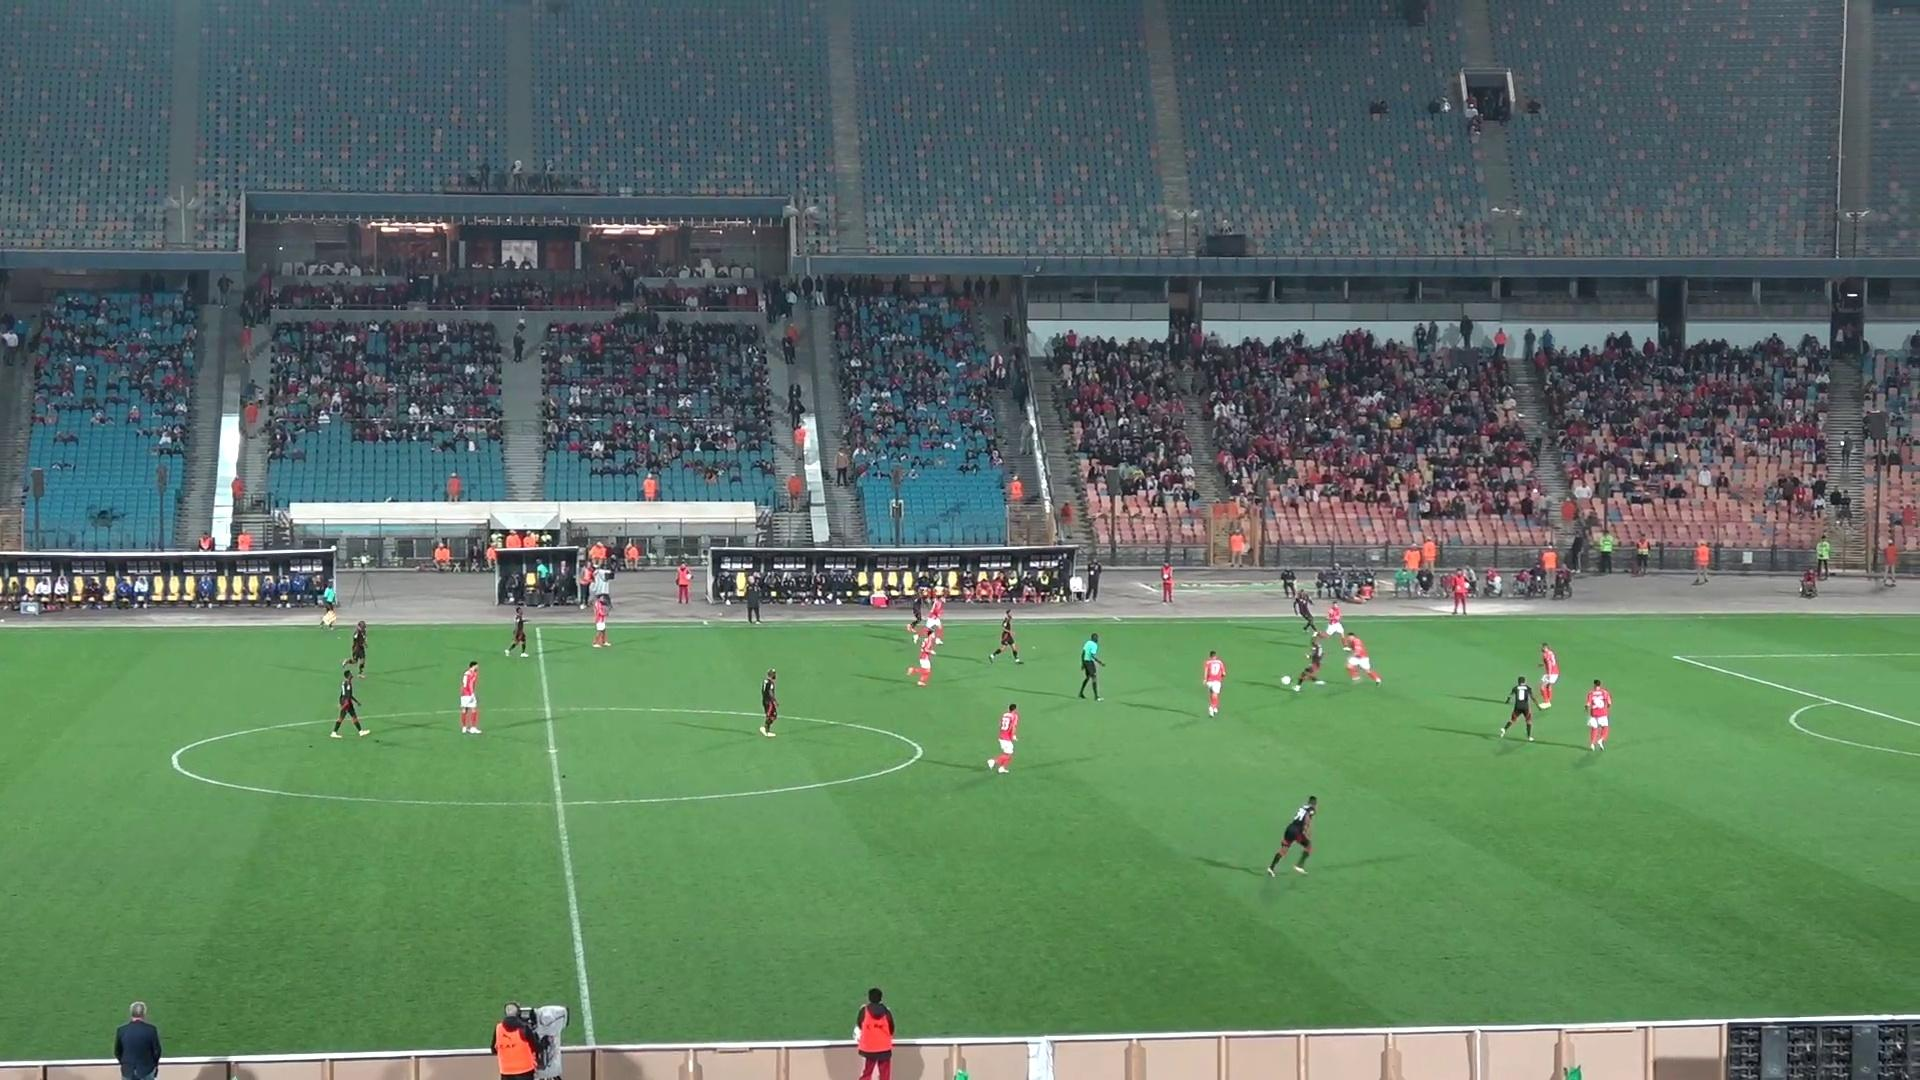Ball: (1280, 674, 1299, 690)
Refree: (1076, 633, 1104, 699), (318, 580, 338, 626)
Team1: (986, 704, 1021, 773), (1584, 680, 1611, 752), (907, 629, 942, 686), (1200, 650, 1226, 717), (459, 662, 483, 735), (1532, 644, 1560, 705), (924, 589, 949, 636), (589, 593, 611, 647), (1316, 603, 1348, 638)
Team2: (1267, 796, 1315, 876), (330, 673, 371, 736), (1280, 633, 1324, 691), (1499, 676, 1538, 738), (1341, 633, 1381, 683), (989, 612, 1022, 665), (340, 621, 371, 678), (502, 611, 539, 655), (758, 670, 779, 737), (1286, 589, 1317, 632), (905, 588, 927, 638)
